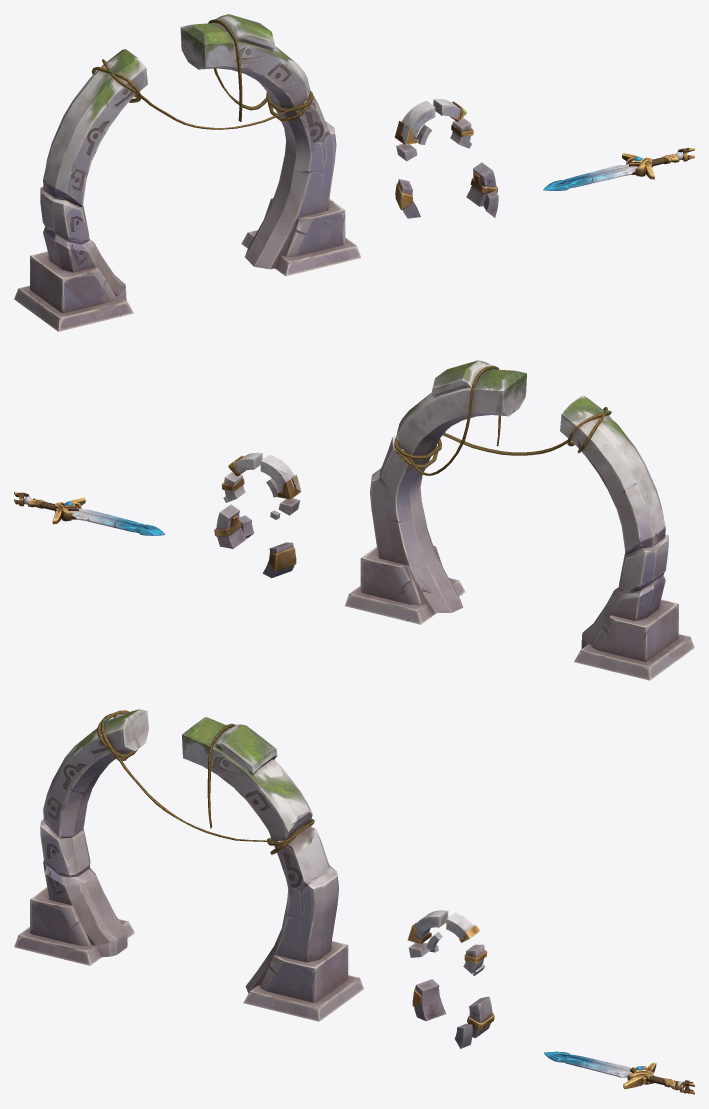
File: Item_set_1.glb
3 renders of one model, top to bottom at view 1: azimuth 30°, elevation 25°; view 2: azimuth 150°, elevation 25°; view 3: azimuth 330°, elevation 25°, orthographic.
Parts seen in each view (by area): view 1: Arch_Low, Water_Arch_Low2, Sword_Low, Water_Arch_Low, Water_Arch_Low1; view 2: Arch_Low, Water_Arch_Low2, Sword_Low, Water_Arch_Low, Water_Arch_Low1; view 3: Arch_Low, Water_Arch_Low2, Sword_Low, Water_Arch_Low1, Water_Arch_Low.
Part boxes in pixels (<box>): Arch_Low: <box>14,14,361,331</box>; Water_Arch_Low2: <box>394,99,473,161</box>; Sword_Low: <box>543,147,694,190</box>; Water_Arch_Low: <box>466,162,497,206</box>; Water_Arch_Low1: <box>395,179,420,218</box>; Arch_Low: <box>345,360,694,680</box>; Water_Arch_Low2: <box>221,452,301,519</box>; Sword_Low: <box>14,491,165,535</box>; Water_Arch_Low: <box>214,504,246,548</box>; Water_Arch_Low1: <box>262,542,296,578</box>; Arch_Low: <box>14,709,363,1021</box>; Water_Arch_Low2: <box>407,910,487,975</box>; Sword_Low: <box>544,1051,694,1094</box>; Water_Arch_Low1: <box>412,979,446,1021</box>; Water_Arch_Low: <box>467,996,494,1038</box>.
Size of the model in its own units: 34.64 by 12.82 by 4.07.
1 material, 1 textured.
